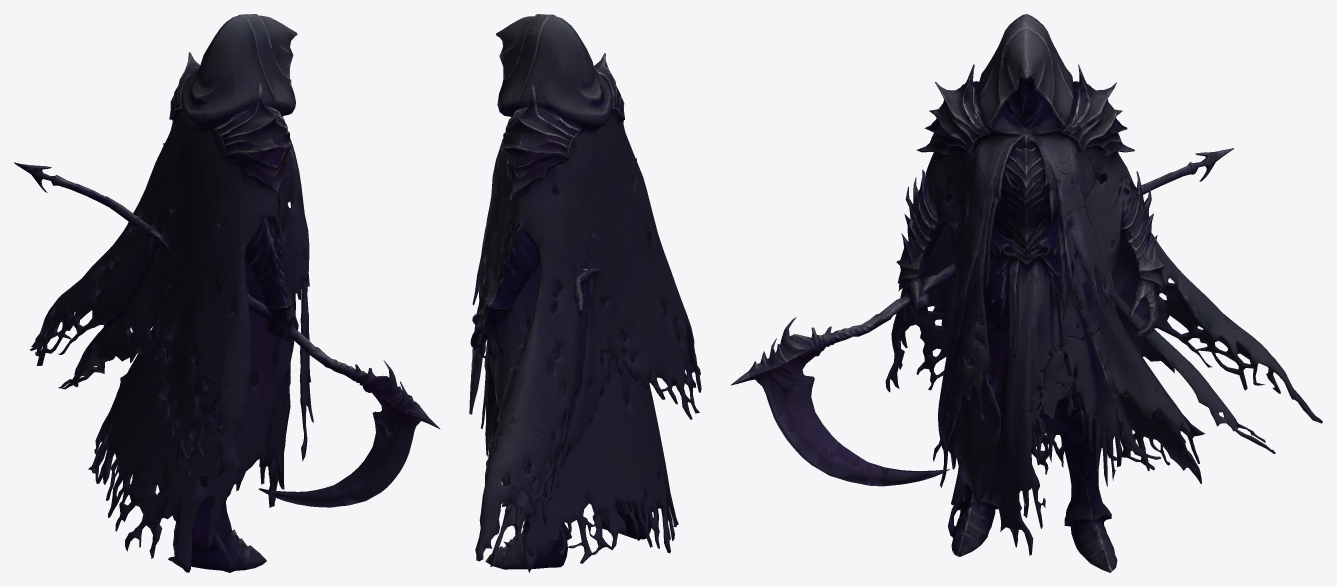
File: SetanPasar.fbx
3 renders of one model, left to right at view 1: azimuth 30°, elevation 25°; view 2: azimuth 150°, elevation 25°; view 3: azimuth 270°, elevation 25°, orthographic. The views are drawn at different scales.
Parts seen in each view (by area): view 1: tripo_node_2b7f516e; view 2: tripo_node_2b7f516e; view 3: tripo_node_2b7f516e.
Boxes of the visible parts, x1,y1,x2,y2 form: tripo_node_2b7f516e: (14, 14, 440, 572); tripo_node_2b7f516e: (469, 14, 701, 572); tripo_node_2b7f516e: (730, 14, 1322, 572).
Size of the model in its own units: 37.36 by 99.91 by 98.43.
1 material, 1 textured.
